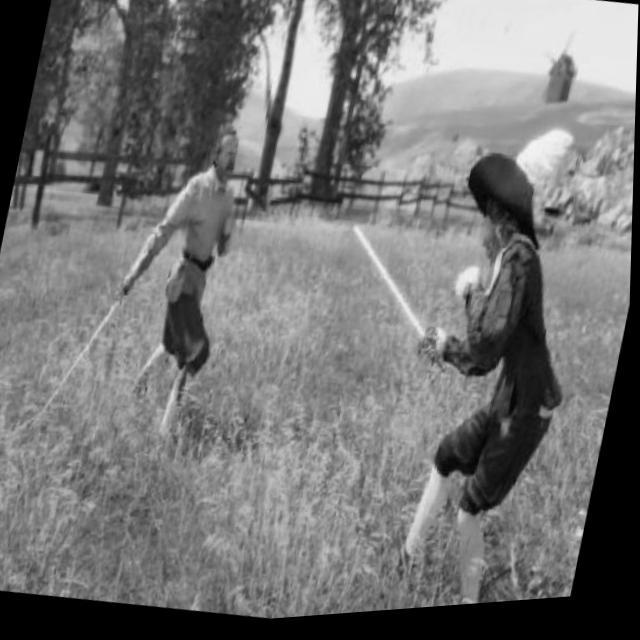weapon: (359, 145, 616, 618), (85, 112, 262, 454)
